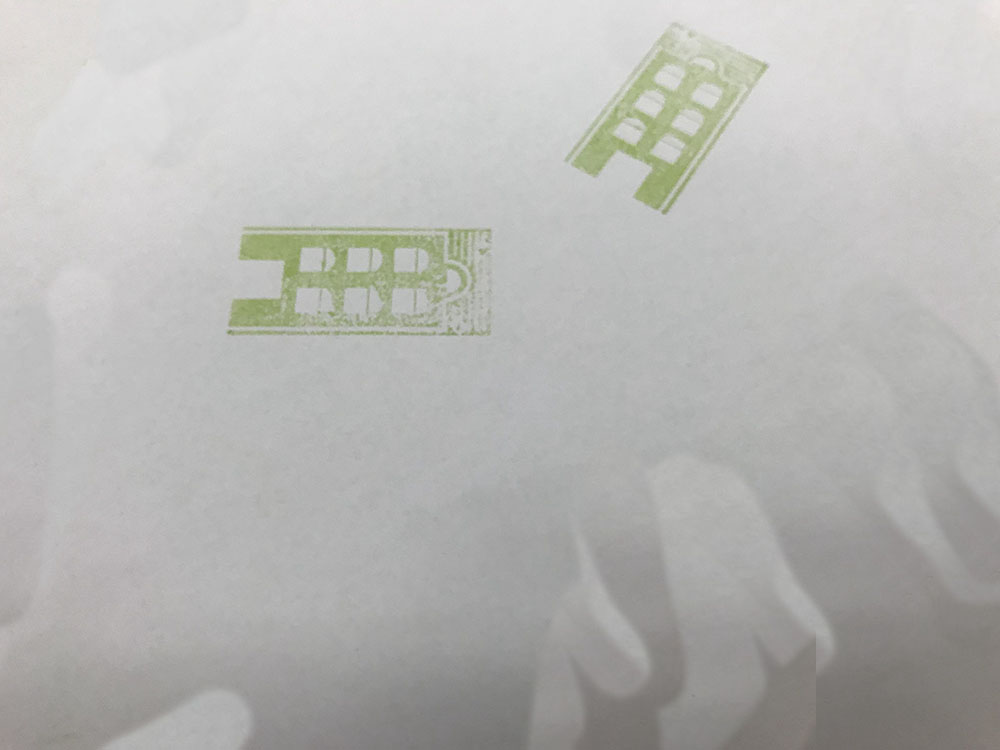build: (548, 8, 791, 237), (194, 216, 509, 360)
